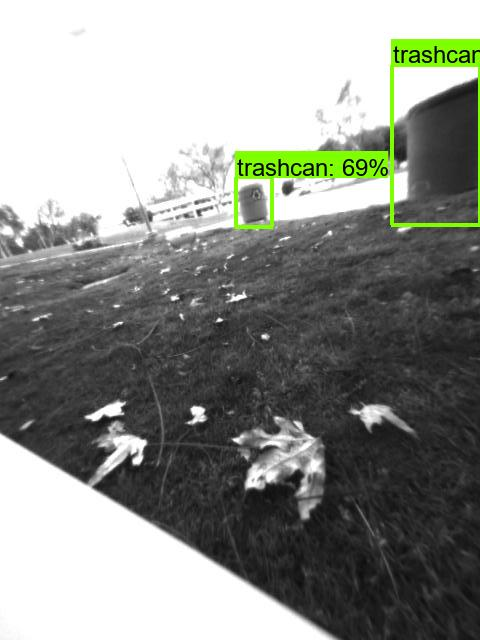trashcan: (235, 180, 272, 226)
